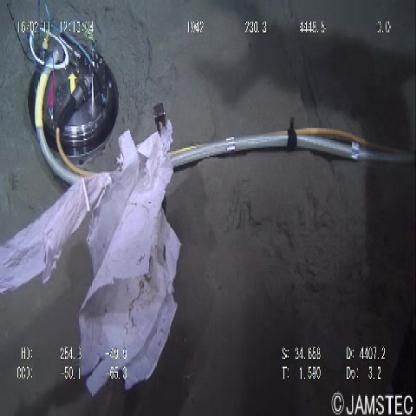Rov: (22, 4, 120, 158)
Rác: (0, 114, 174, 393)
